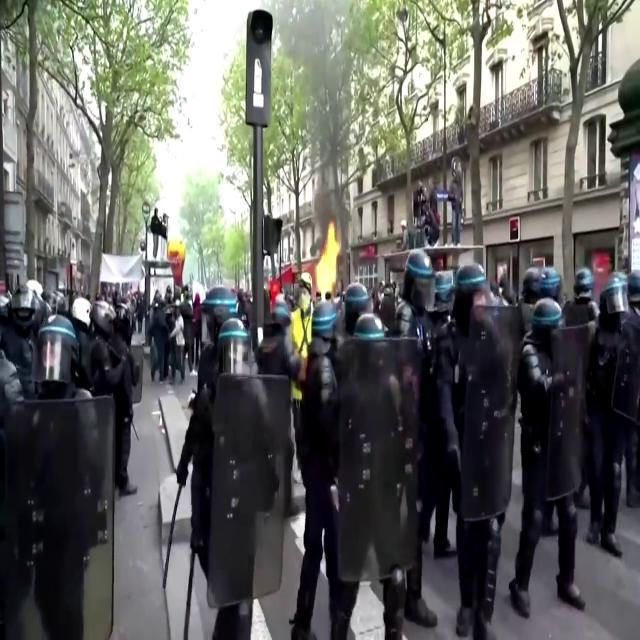Fire: (315, 213, 343, 300)
Smoke: (302, 2, 356, 222)
